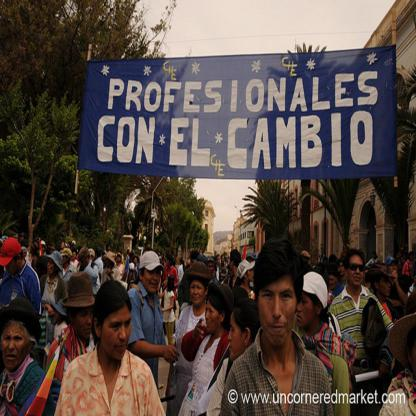face: (258, 274, 297, 347), (102, 307, 132, 361), (3, 322, 26, 370), (229, 314, 246, 362), (297, 288, 316, 328), (74, 305, 94, 339), (206, 299, 221, 334), (349, 255, 365, 287), (144, 266, 161, 293), (190, 280, 206, 305), (5, 255, 19, 277), (379, 275, 391, 297), (388, 262, 398, 279), (48, 258, 57, 275), (330, 274, 338, 291), (245, 268, 255, 281), (302, 256, 310, 272), (55, 308, 64, 322), (208, 262, 215, 277), (230, 256, 236, 272), (338, 264, 346, 275), (82, 255, 89, 267), (89, 253, 95, 264), (106, 258, 112, 268), (165, 277, 171, 287), (62, 253, 67, 264), (13, 236, 19, 244), (40, 246, 46, 254), (50, 248, 55, 257), (167, 258, 172, 267), (21, 236, 26, 244), (72, 253, 77, 261), (31, 246, 35, 255), (117, 255, 121, 263), (217, 257, 221, 265), (411, 254, 415, 262), (134, 258, 138, 264), (62, 242, 65, 249), (222, 257, 225, 264), (373, 253, 376, 260)
